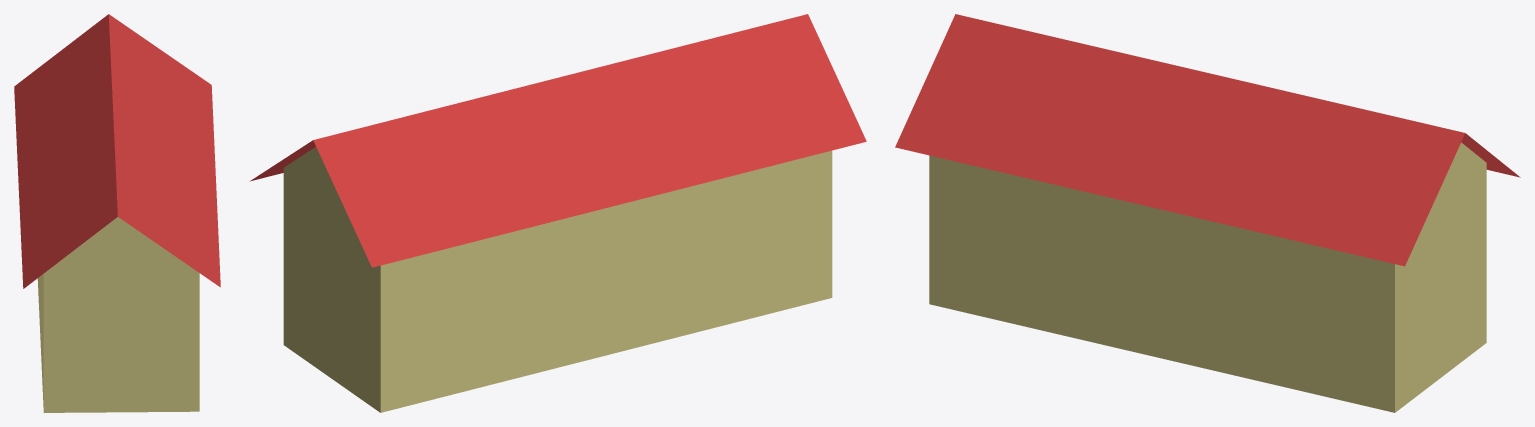
3 views of the same model, side by side, from view 1: azimuth 30°, elevation 25°; view 2: azimuth 150°, elevation 25°; view 3: azimuth 270°, elevation 25° (orthographic). The views are drawn at different scales.
Bounding box in the file's own units: 19.39 × 24.69 × 10.8.
